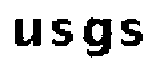g: (81, 16, 115, 60)
s: (49, 17, 74, 52), (120, 18, 144, 47)
u: (8, 14, 44, 52)
